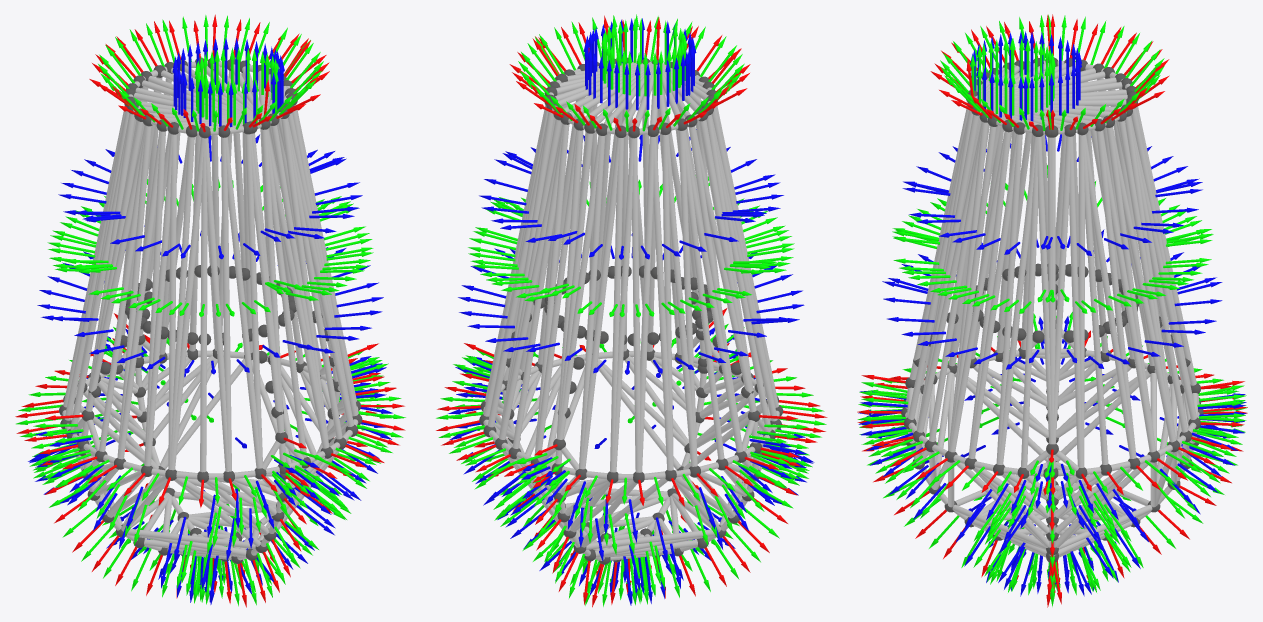
Rendered from flowrep_spherecylinder.gltf.
The picture shows the model from 3 angles, left to right: view 1: azimuth 30°, elevation 25°; view 2: azimuth 150°, elevation 25°; view 3: azimuth 270°, elevation 25°; orthographic projection.
Bounding box in the file's own units: 0.6118 × 0.9286 × 0.6124.
